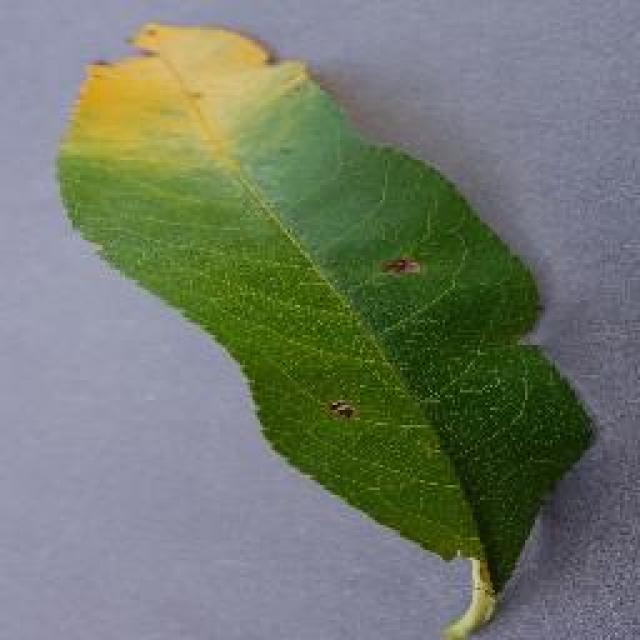Peach_Bacterial_Spot: (106, 33, 466, 435)
